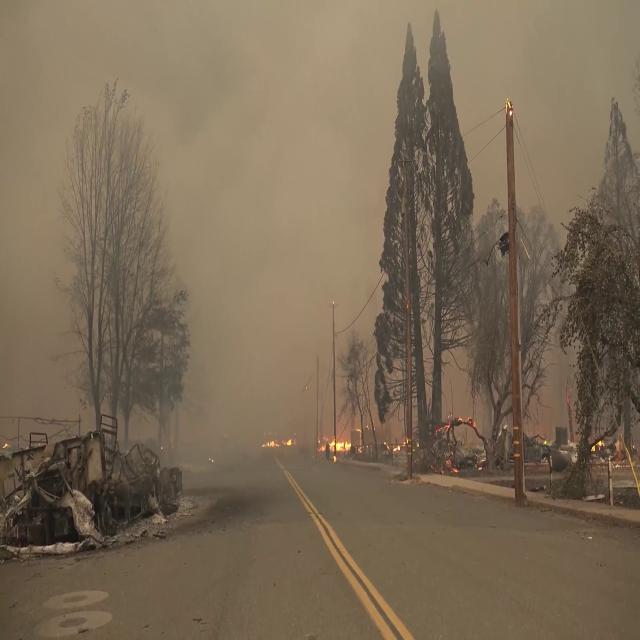smoke: (190, 20, 338, 287)
